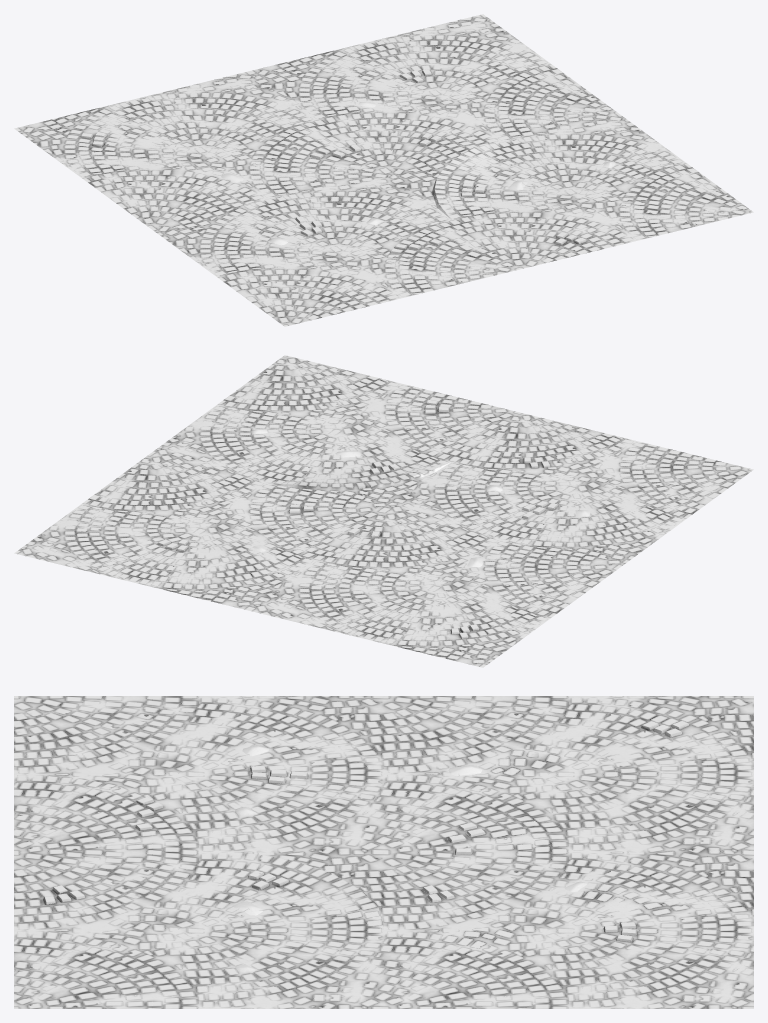
Rendered from Cobblestone Floor Large.FBX.
3 renders of one model, top to bottom at view 1: azimuth 30°, elevation 25°; view 2: azimuth 150°, elevation 25°; view 3: azimuth 270°, elevation 25°, orthographic. The views are drawn at different scales.
Visible parts, largest first — view 1: Cobblestone Floor Large; view 2: Cobblestone Floor Large; view 3: Cobblestone Floor Large.
Boxes of the visible parts, x1,y1,x2,y2 form: Cobblestone Floor Large: (14,14,753,326); Cobblestone Floor Large: (14,355,753,667); Cobblestone Floor Large: (14,696,753,1008).
Size of the model in its own units: 80 by 0.642 by 80.
1 material, 1 textured.
